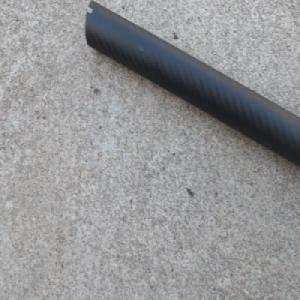LuggagePart: (84, 0, 300, 173)
